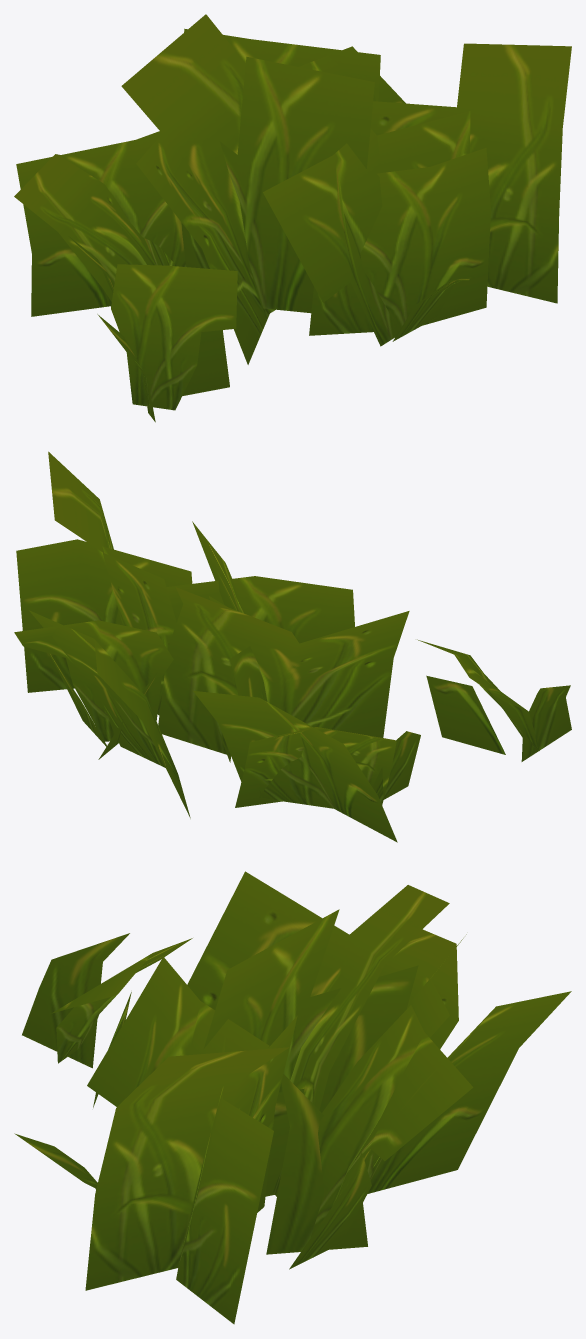
Rendered from daliang_field_v_i01b.fbx.
3 renders of one model, top to bottom at view 1: azimuth 30°, elevation 25°; view 2: azimuth 150°, elevation 25°; view 3: azimuth 270°, elevation 25°, orthographic. The views are drawn at different scales.
Parts seen in each view (by area): view 1: daliang_field_v_i01b; view 2: daliang_field_v_i01b; view 3: daliang_field_v_i01b.
Part boxes in pixels (box(x1,y1,x2,y2)): daliang_field_v_i01b: box(14, 14, 571, 422); daliang_field_v_i01b: box(14, 451, 571, 842); daliang_field_v_i01b: box(14, 871, 571, 1324).
Size of the model in its own units: 315 by 152 by 259.
